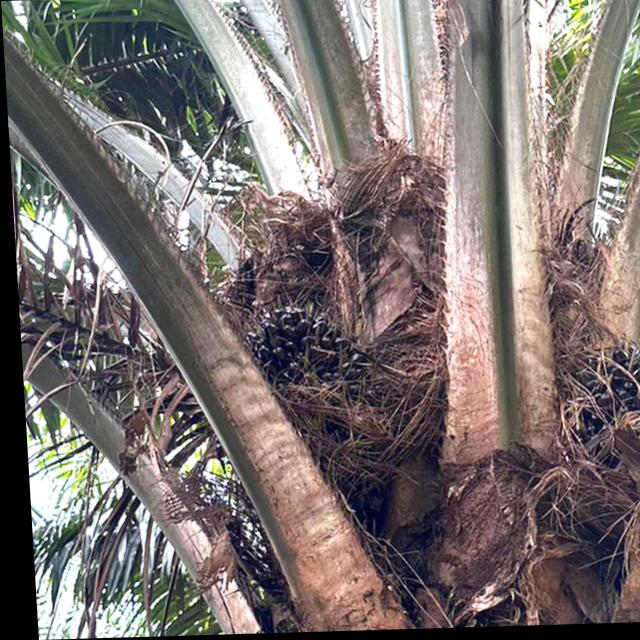ripe: (219, 275, 359, 409)
